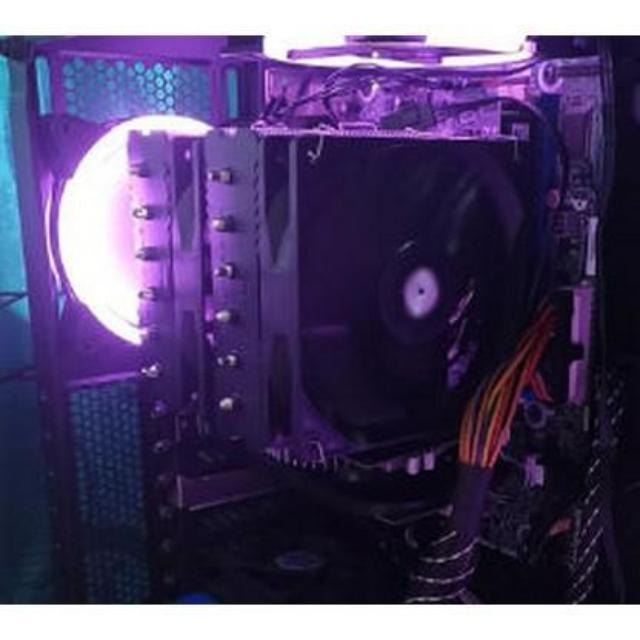CPU_Fan: (126, 130, 540, 462)
